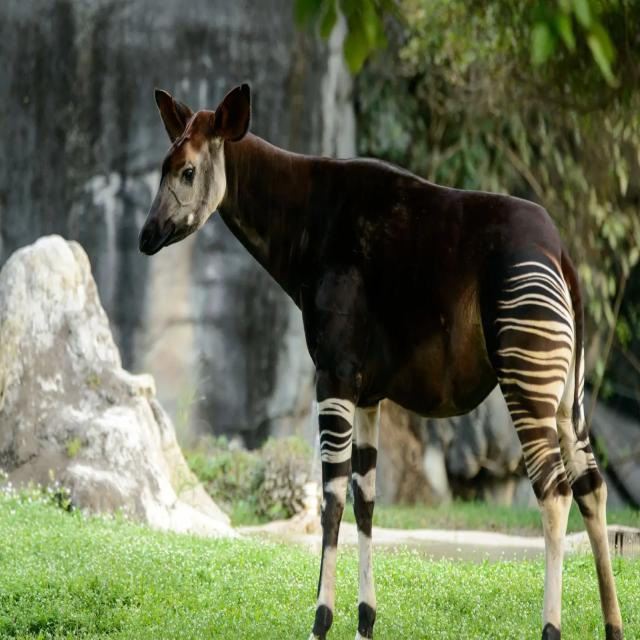Okapi: (138, 75, 624, 640)
